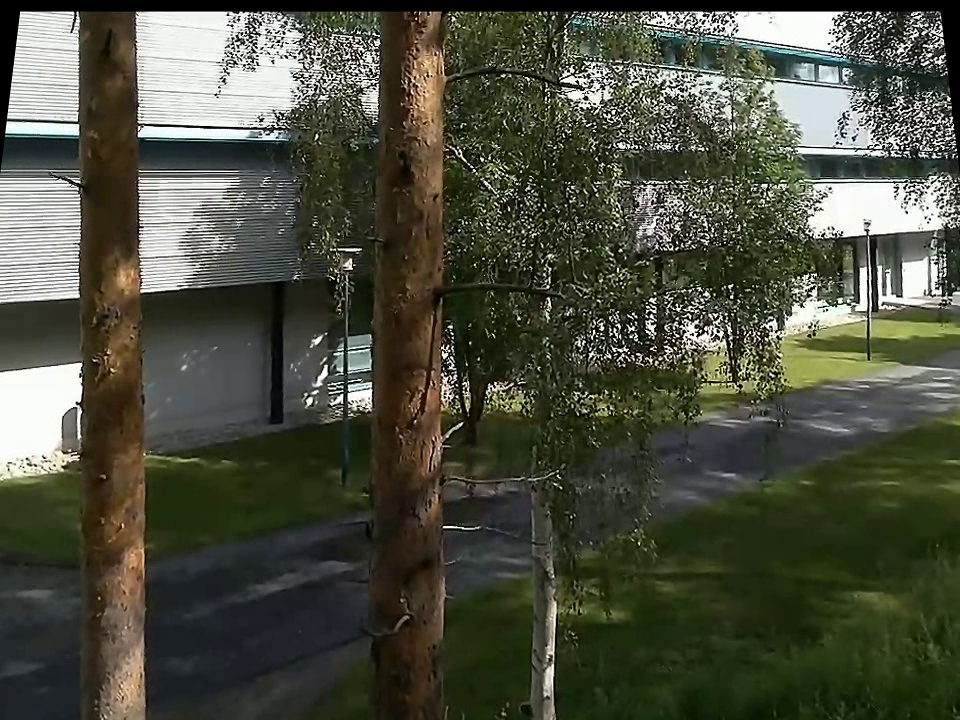branch: (447, 262, 575, 305), (447, 57, 590, 95), (443, 459, 575, 498), (445, 507, 555, 548)
trunk: (361, 9, 450, 713), (70, 16, 151, 718), (524, 316, 563, 715)
